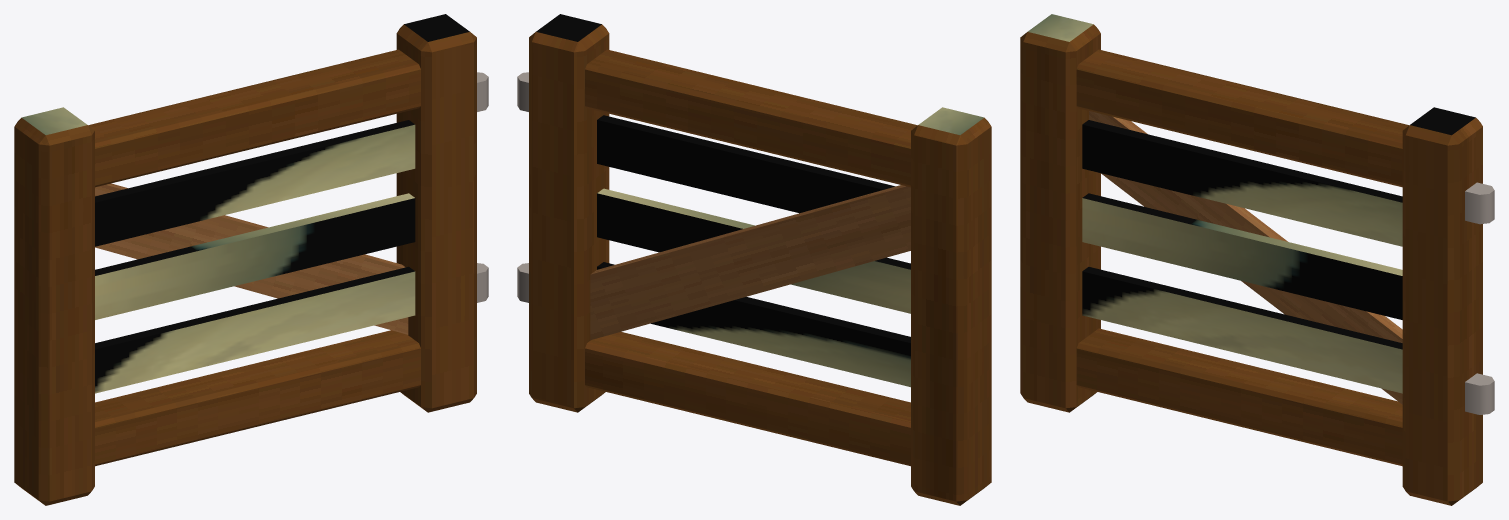
Rendered from Path_Fence_Gate_Door_1x1.fbx.
3 views of the same model, side by side, from view 1: azimuth 30°, elevation 25°; view 2: azimuth 150°, elevation 25°; view 3: azimuth 330°, elevation 25° (orthographic).
Visible parts, largest first — view 1: Path_Fence_Gate_Door_1x1; view 2: Path_Fence_Gate_Door_1x1; view 3: Path_Fence_Gate_Door_1x1.
Boxes of the visible parts, box(x1,y1,x2,y2) form: Path_Fence_Gate_Door_1x1: box(14, 14, 488, 505); Path_Fence_Gate_Door_1x1: box(517, 14, 991, 505); Path_Fence_Gate_Door_1x1: box(1020, 14, 1494, 505).
Bounding box in the file's own units: 102 × 78.91 × 12.5.
